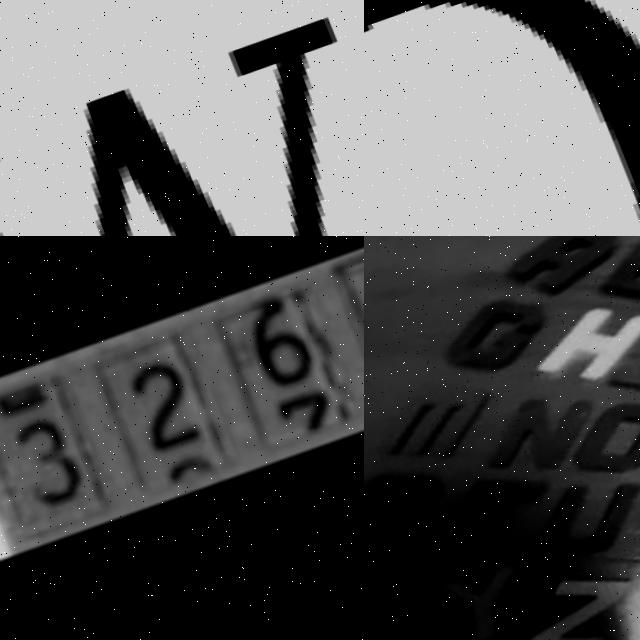2: (102, 352, 195, 465)
3: (0, 409, 78, 514)
6: (223, 291, 319, 401)
A: (494, 236, 622, 300)
B: (583, 236, 640, 314)
G: (422, 291, 552, 390)
H: (517, 296, 640, 402)
I: (587, 310, 640, 417)
M: (364, 367, 502, 475)
N: (465, 386, 600, 490)
O: (364, 0, 640, 236), (556, 392, 640, 486)
S: (364, 450, 460, 565)
T: (424, 467, 550, 562)
U: (519, 469, 640, 571)
V: (610, 475, 640, 585)
W: (0, 0, 364, 236)
Y: (427, 562, 523, 640)
Z: (488, 561, 640, 640)
